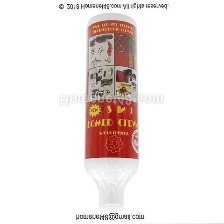cleaning_solution: (80, 11, 140, 213)
